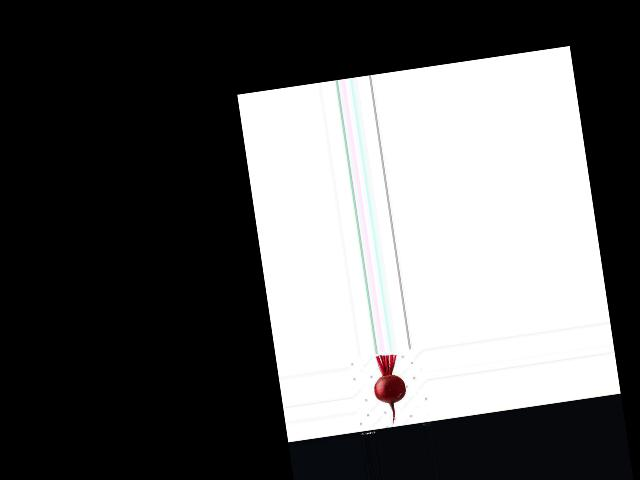beet: (369, 352, 410, 427)
